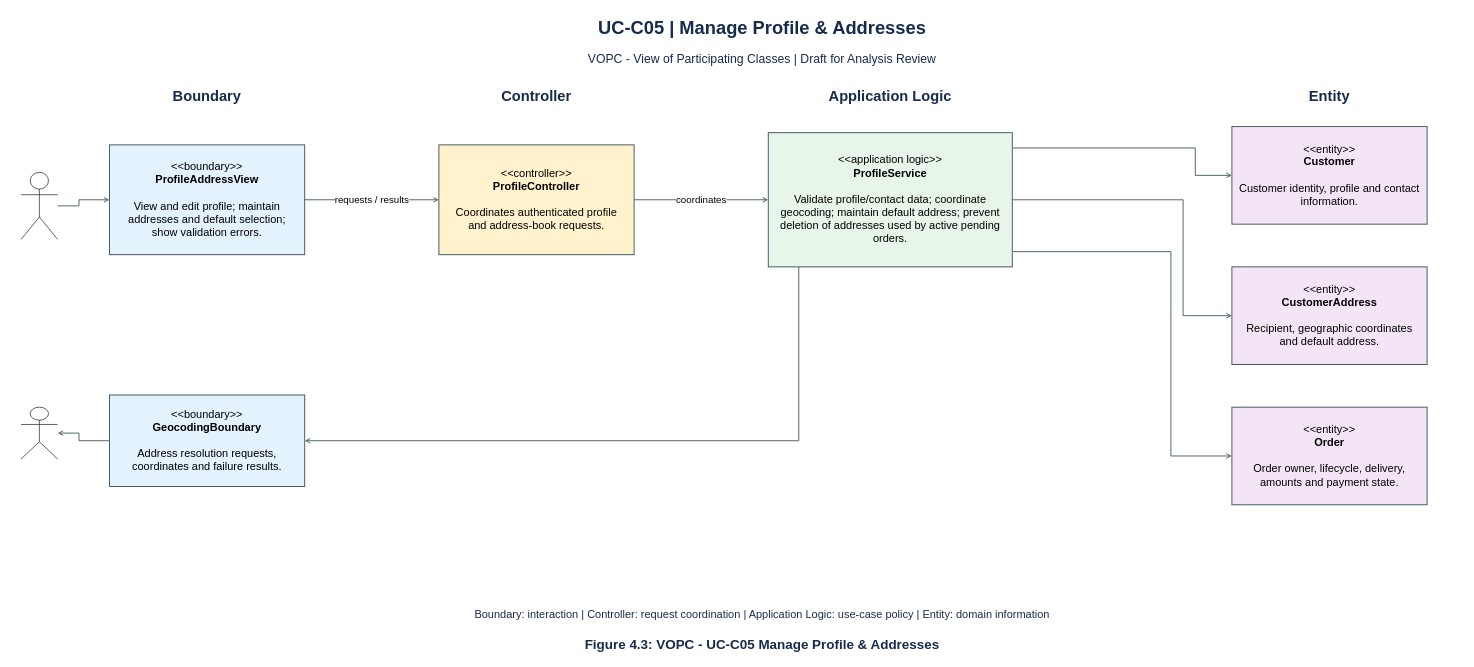
This 1474x667 diagram has some shape labels left out. The centre of each missing label's shape, as x and y in pixels:
Customer: point 39,205
Google Maps: point 39,433
